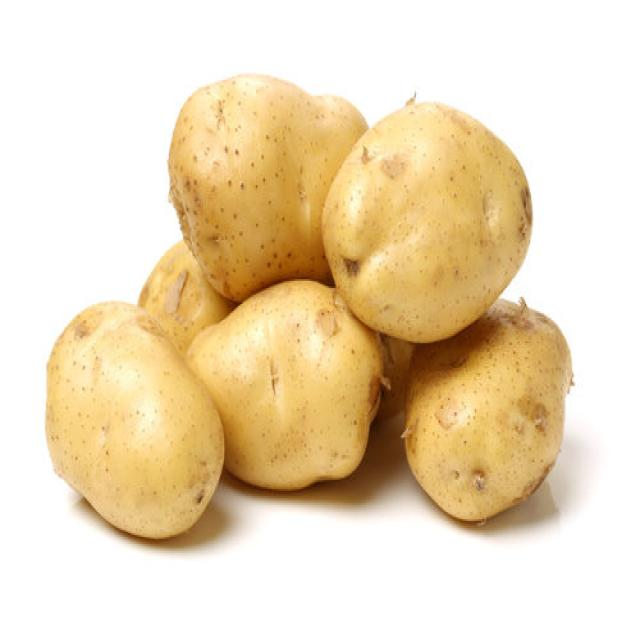Potato: (320, 91, 532, 343), (166, 71, 368, 302), (184, 277, 390, 491), (44, 298, 224, 538), (401, 295, 574, 523), (137, 238, 232, 356)
